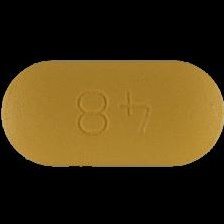57237-025: (0, 0, 224, 224)
